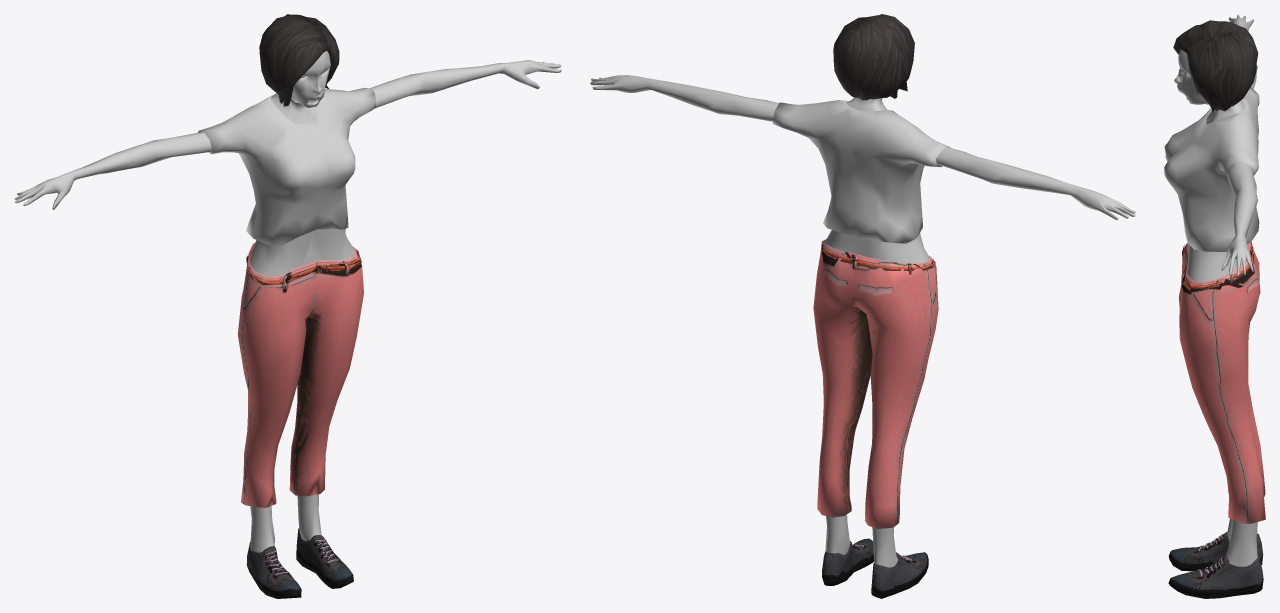
File: hyjfhgdfsdesfgh.obj
3 views of the same model, side by side, from view 1: azimuth 30°, elevation 25°; view 2: azimuth 150°, elevation 25°; view 3: azimuth 270°, elevation 25° (orthographic).
Visible parts, largest first — view 1: Bottoms_0_reduced, Tops_0_reduced, Body1_reduced_0_reduced, Hair1_0_reduced, Shoes1_0_reduced; view 2: Bottoms_0_reduced, Tops_0_reduced, Body1_reduced_0_reduced, Hair1_0_reduced, Shoes1_0_reduced; view 3: Bottoms_0_reduced, Tops_0_reduced, Body1_reduced_0_reduced, Hair1_0_reduced, Shoes1_0_reduced.
Part boxes in pixels (x1,y1,x2,y2): Bottoms_0_reduced: (237, 243, 363, 507); Tops_0_reduced: (198, 87, 375, 246); Body1_reduced_0_reduced: (14, 51, 561, 552); Hair1_0_reduced: (259, 14, 339, 106); Shoes1_0_reduced: (246, 528, 353, 598); Bottoms_0_reduced: (813, 239, 938, 528); Tops_0_reduced: (772, 100, 950, 243); Body1_reduced_0_reduced: (590, 75, 1135, 567); Hair1_0_reduced: (833, 14, 914, 100); Shoes1_0_reduced: (822, 538, 928, 598); Bottoms_0_reduced: (1179, 242, 1265, 523); Tops_0_reduced: (1164, 87, 1259, 251); Body1_reduced_0_reduced: (1174, 14, 1258, 566); Hair1_0_reduced: (1173, 20, 1258, 112); Shoes1_0_reduced: (1168, 532, 1263, 598).
Bounding box in the file's own units: 179 × 176 × 29.23.
